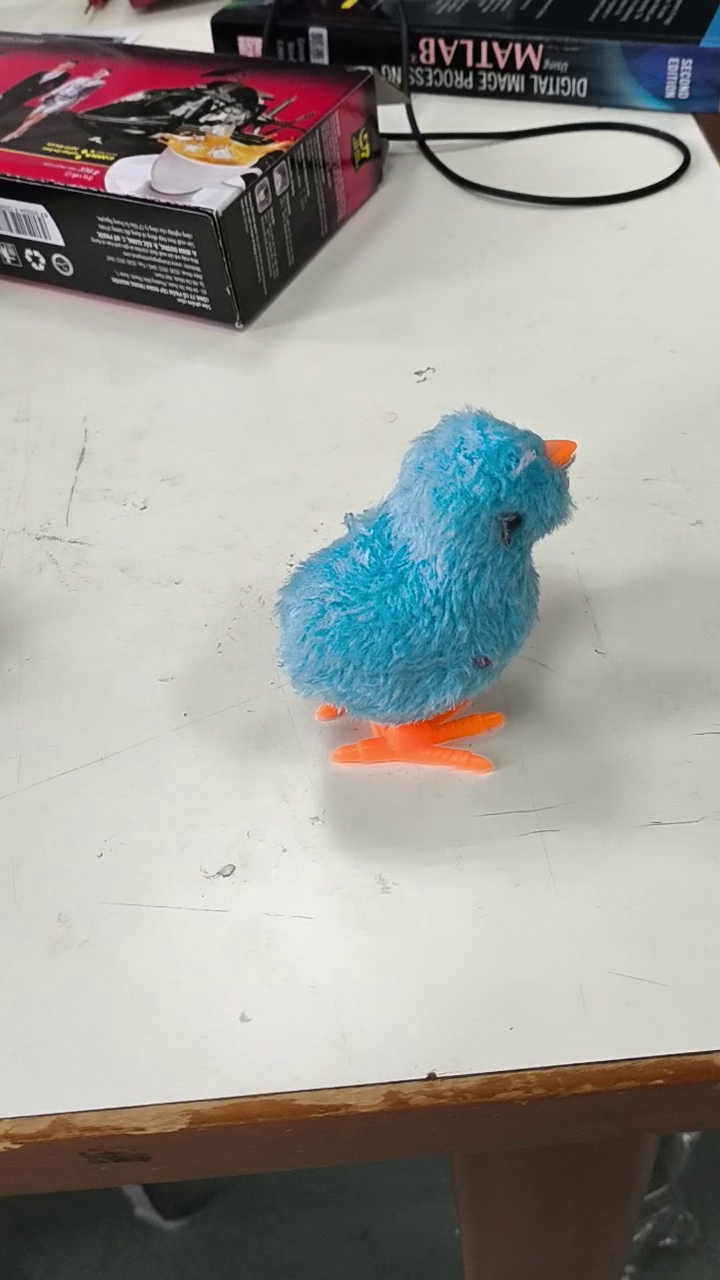blue chicken: (264, 393, 594, 788)
